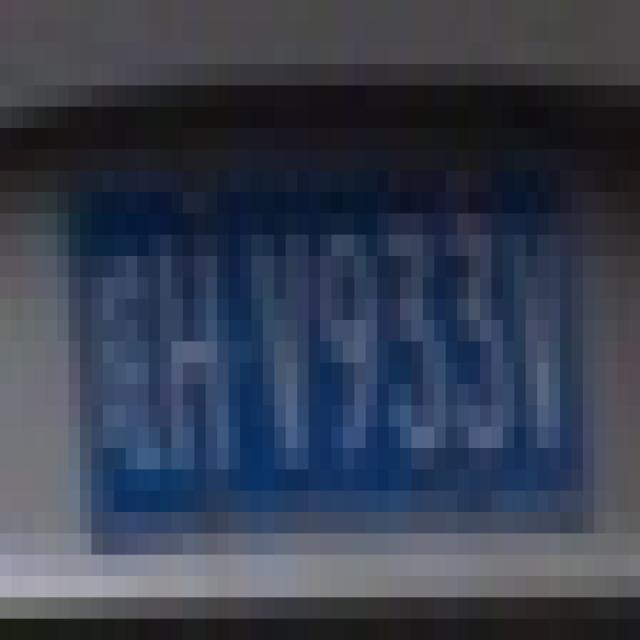LicensePlate: (68, 190, 587, 519)
